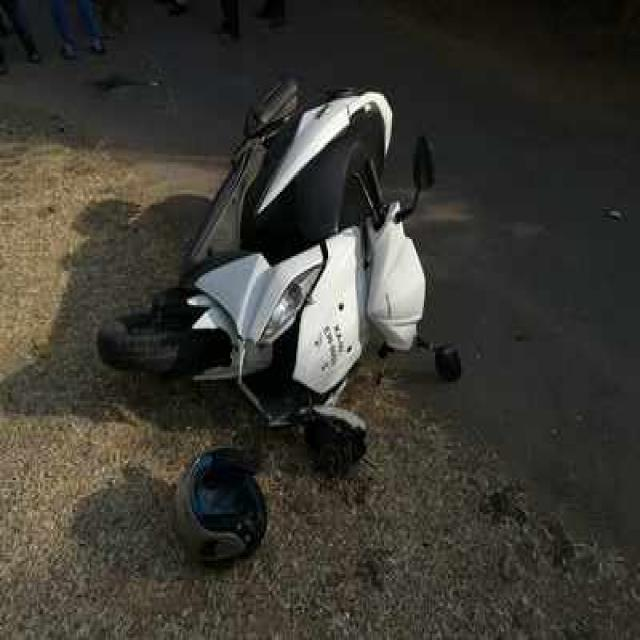accident: (99, 80, 425, 474)
